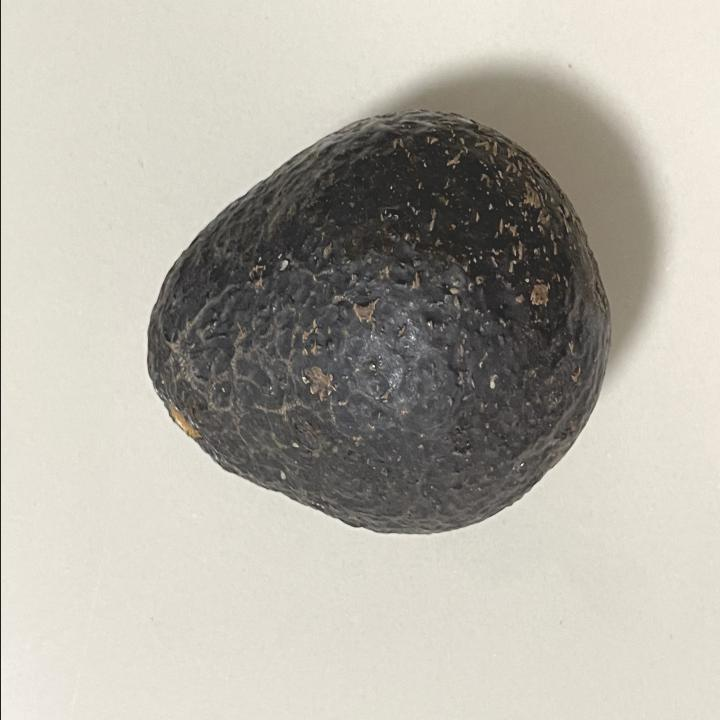Level2: (136, 100, 618, 544)
